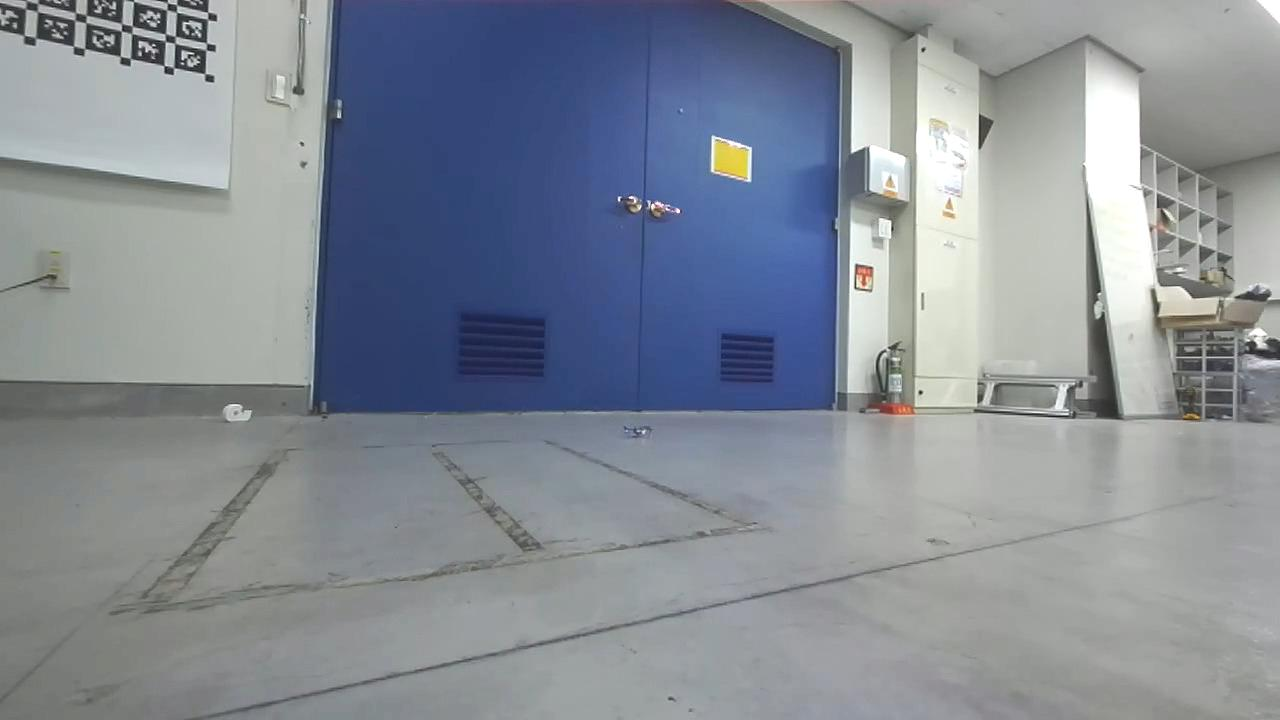crazyflie: (610, 419, 662, 445)
